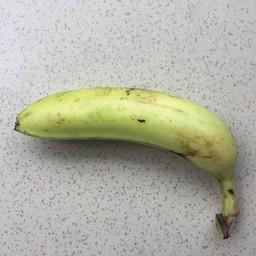Good_banana: (12, 81, 245, 179)
